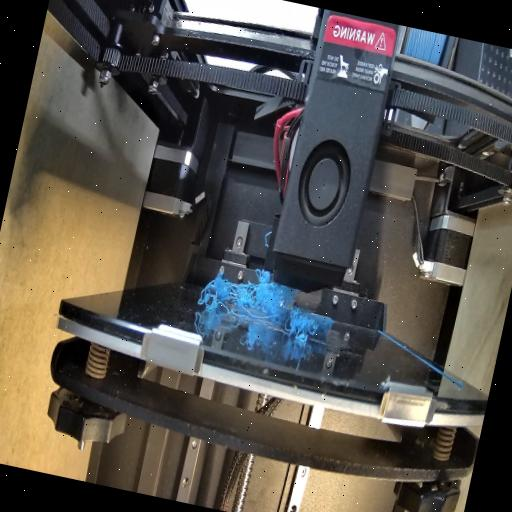spaghetti: (194, 265, 290, 325), (278, 300, 328, 346)
